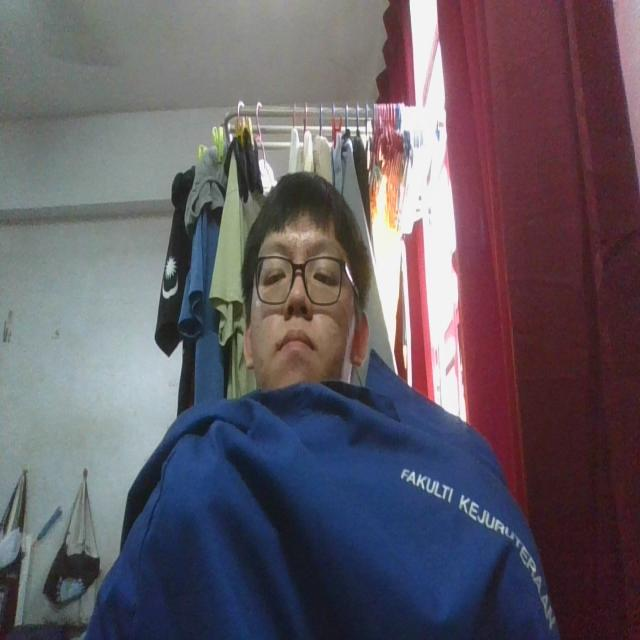person_without_labcoat: (87, 172, 560, 639)
